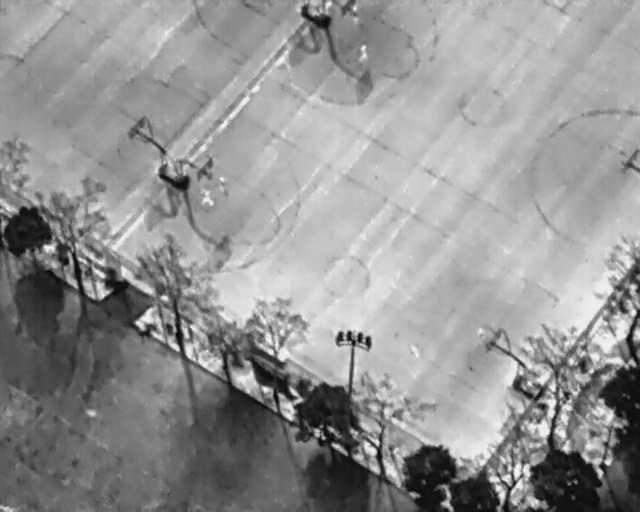Person: (202, 187, 215, 208), (217, 174, 227, 198), (360, 41, 368, 64), (351, 3, 360, 23)
